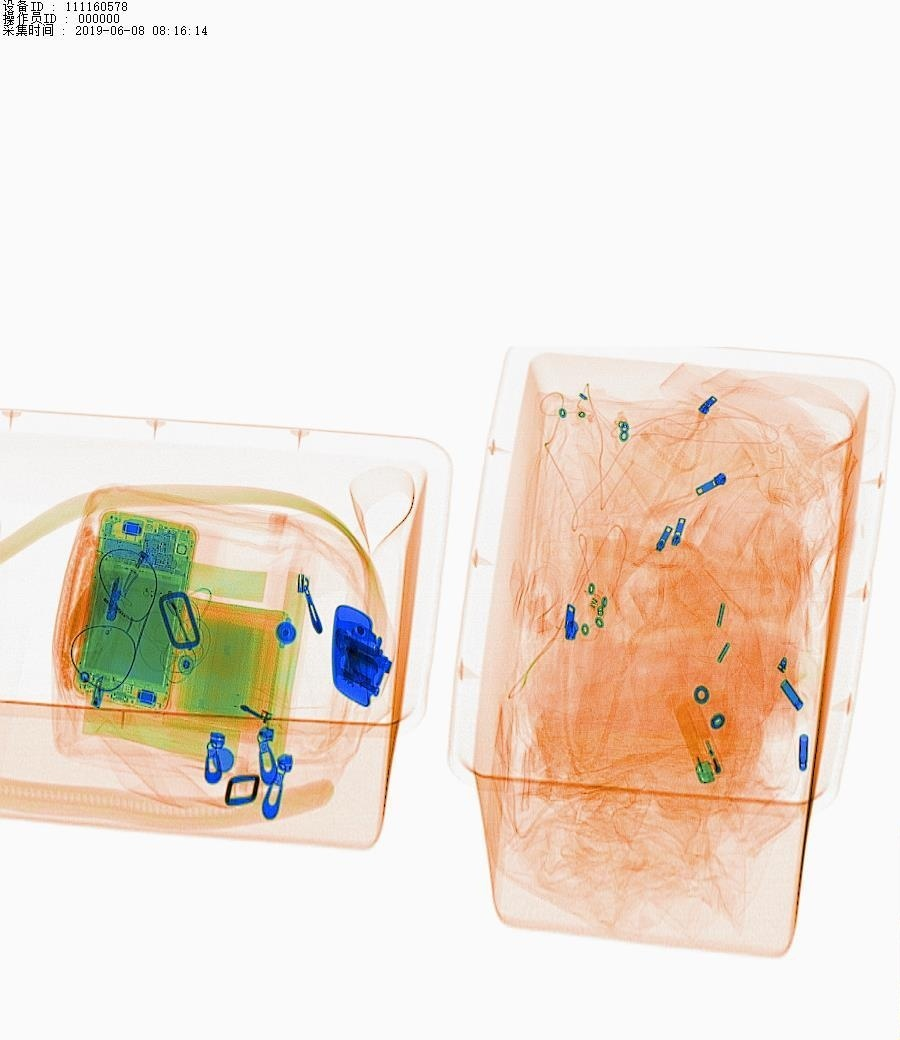NonmetallicFire: (672, 688, 733, 808)
